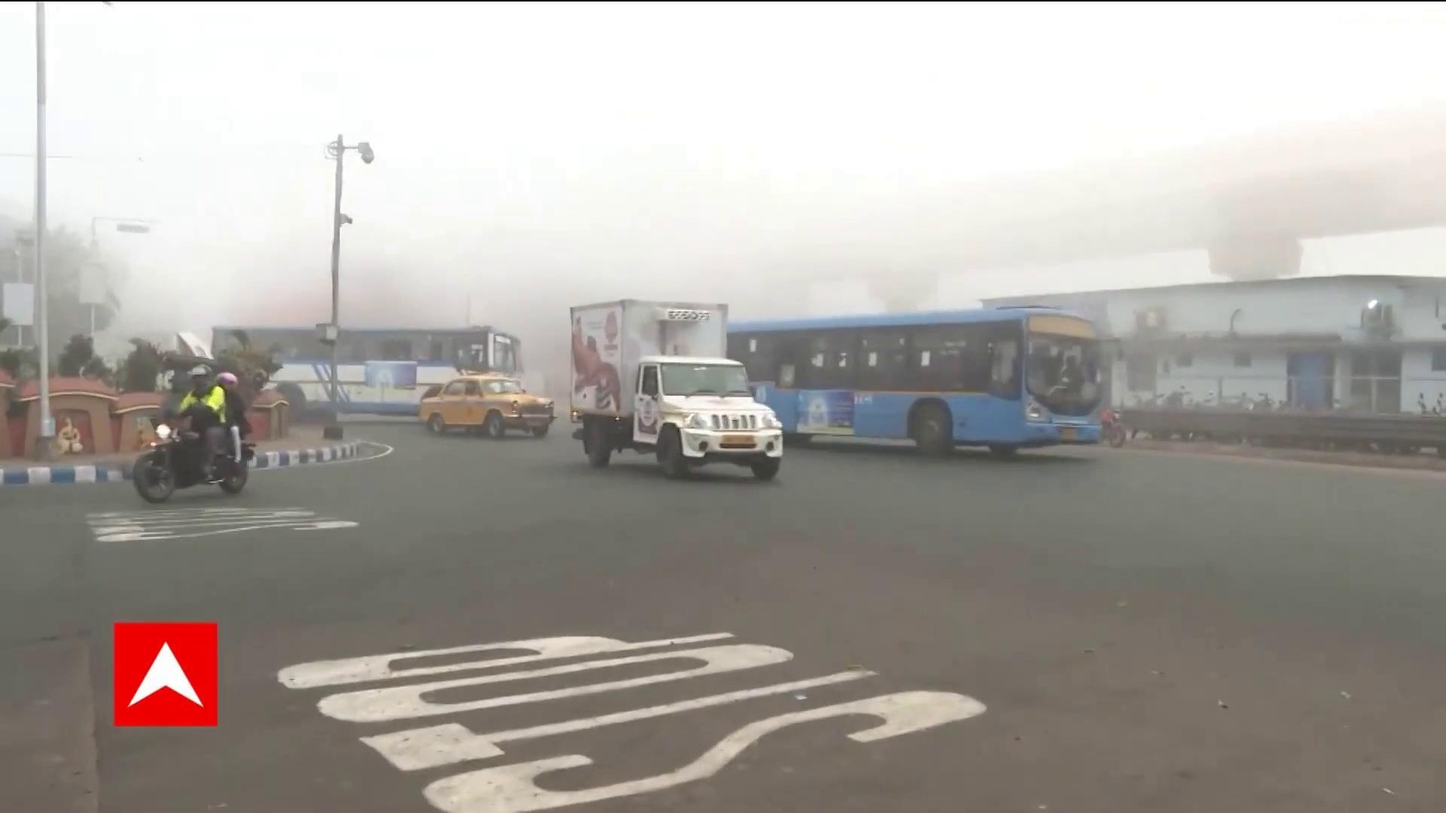Bike: (128, 364, 257, 504)
Bus: (786, 306, 1108, 457), (209, 317, 526, 436)
Car: (418, 371, 556, 439)
Truck: (565, 296, 785, 484)
